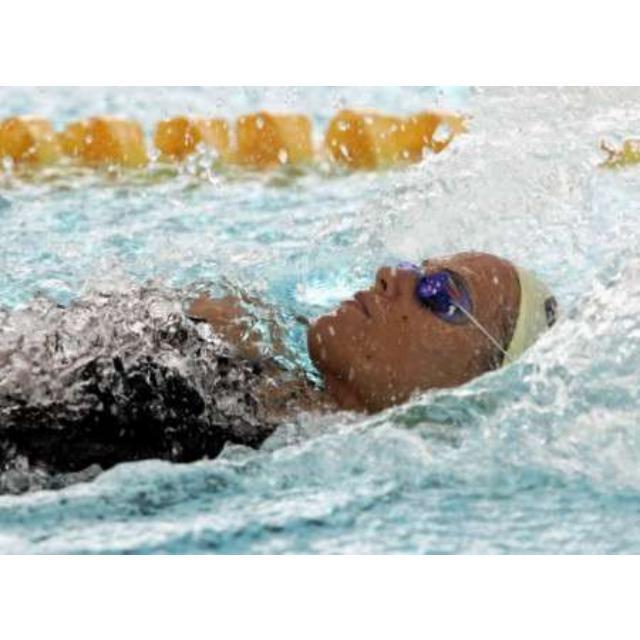human: (11, 232, 574, 480)
